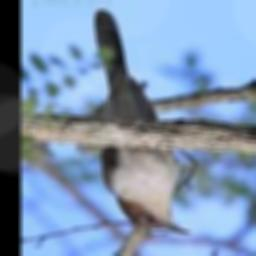Cuckoo: (93, 10, 192, 235)
